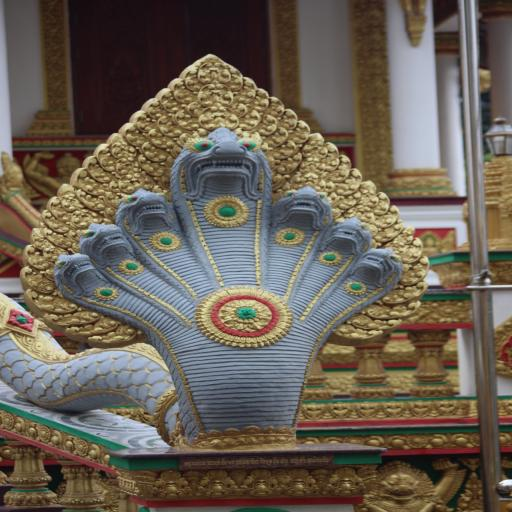hoa: (428, 300, 466, 324), (406, 434, 432, 449), (37, 423, 52, 441), (75, 438, 88, 458), (343, 434, 366, 445), (2, 412, 13, 432), (470, 433, 481, 446)
la: (192, 470, 236, 499), (278, 468, 321, 497), (234, 470, 278, 498), (149, 472, 191, 500), (322, 467, 362, 496), (433, 433, 472, 449), (366, 434, 406, 449), (322, 401, 355, 418), (380, 401, 409, 418), (52, 430, 74, 452), (13, 418, 36, 439), (354, 400, 380, 418), (88, 444, 110, 464), (434, 400, 460, 416), (302, 402, 325, 420), (410, 400, 432, 418), (300, 435, 343, 444)
ran: (56, 128, 403, 448)
than: (364, 464, 438, 512)
